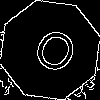O: (25, 25, 82, 85)
